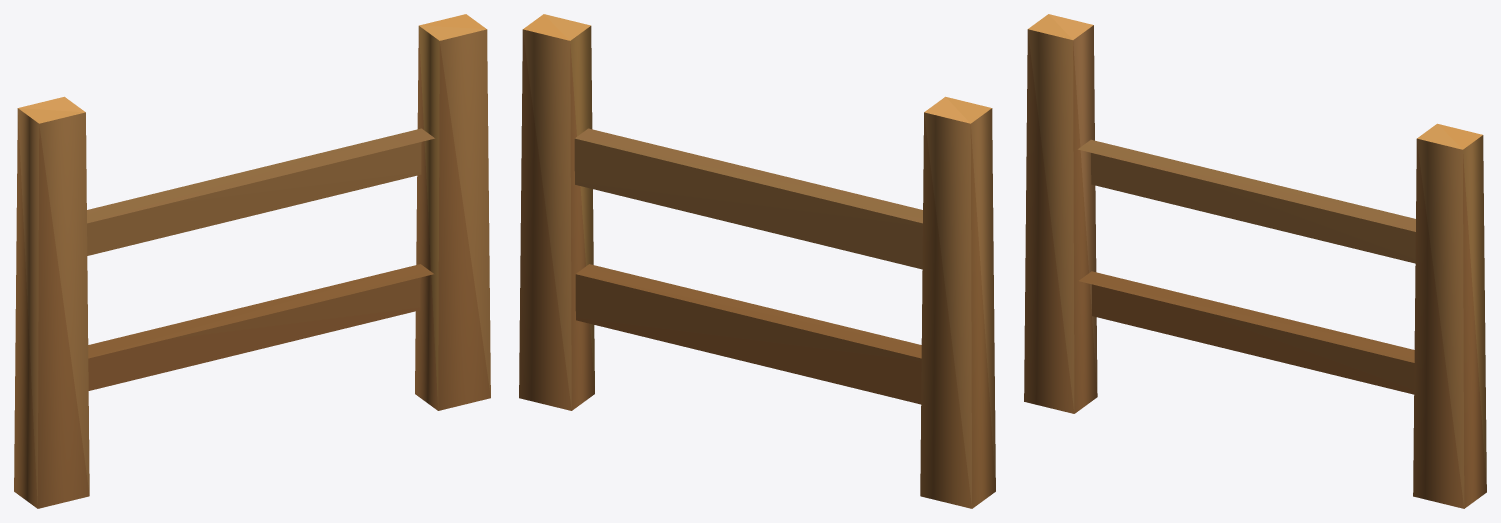
File: fence_rail_far.glb
3 renders of one model, left to right at view 1: azimuth 30°, elevation 25°; view 2: azimuth 150°, elevation 25°; view 3: azimuth 330°, elevation 25°, orthographic. The views are drawn at different scales.
Parts seen in each view (by area): view 1: fence_rail_far; view 2: fence_rail_far; view 3: fence_rail_far.
Boxes of the visible parts, left/top/right/bottom form: fence_rail_far: left=14, top=14, right=490, bottom=508; fence_rail_far: left=519, top=14, right=995, bottom=508; fence_rail_far: left=1024, top=14, right=1486, bottom=508.
Bounding box in the file's own units: 1.1 × 0.89 × 0.1.
Materials: 1 (1 with a texture image).
